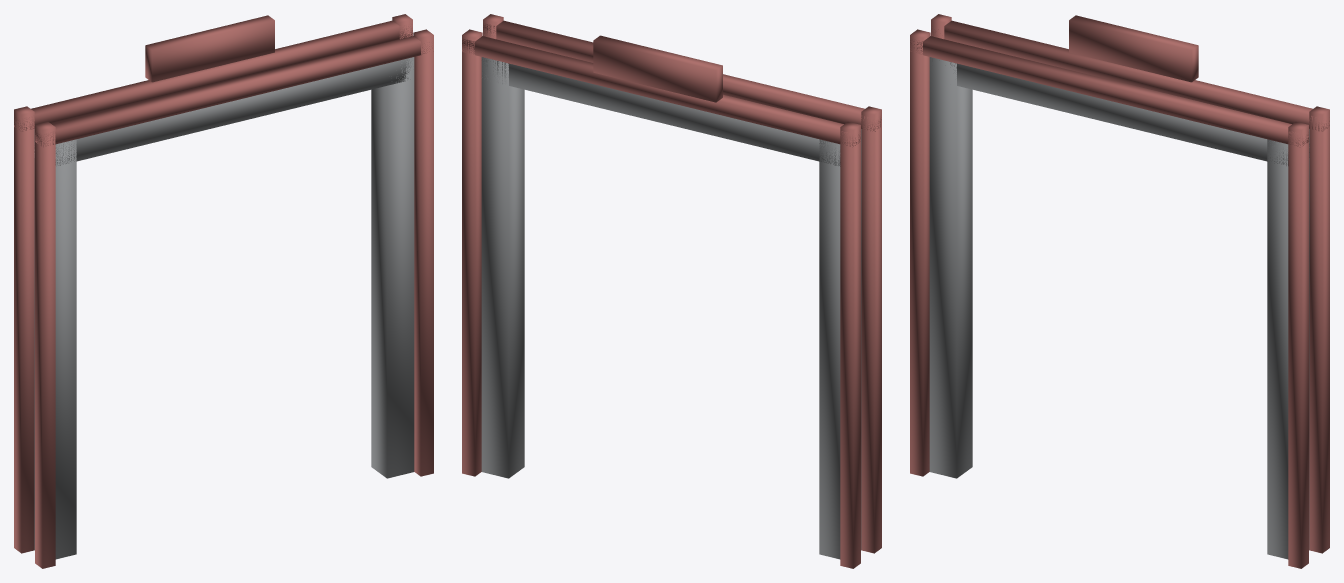
Rendered from doorway_emergency_exit_w182_h220_d16.glb.
The picture shows the model from 3 angles, left to right: view 1: azimuth 30°, elevation 25°; view 2: azimuth 150°, elevation 25°; view 3: azimuth 330°, elevation 25°; orthographic projection.
Visible parts, largest first — view 1: world; view 2: world; view 3: world.
Boxes of the visible parts, box(x1,y1,x2,y2) form: world: box(14, 14, 433, 568); world: box(462, 14, 881, 568); world: box(910, 14, 1329, 568).
Size of the model in its own units: 2.29 by 2.62 by 0.3203.
